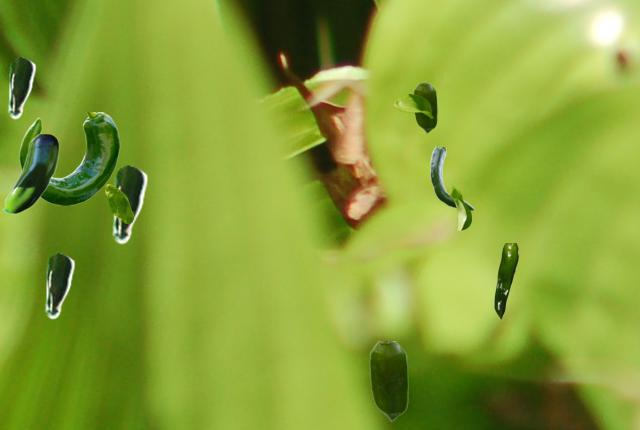green_chili: (19, 112, 119, 204), (2, 134, 57, 213), (369, 341, 407, 420), (110, 164, 147, 243), (430, 147, 473, 209), (43, 252, 74, 318), (6, 56, 35, 118), (494, 243, 517, 318), (413, 83, 436, 132)
